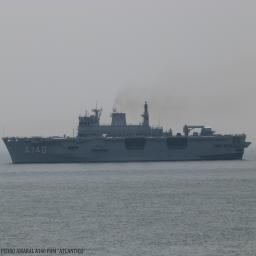Portanaves: (1, 100, 254, 166)
